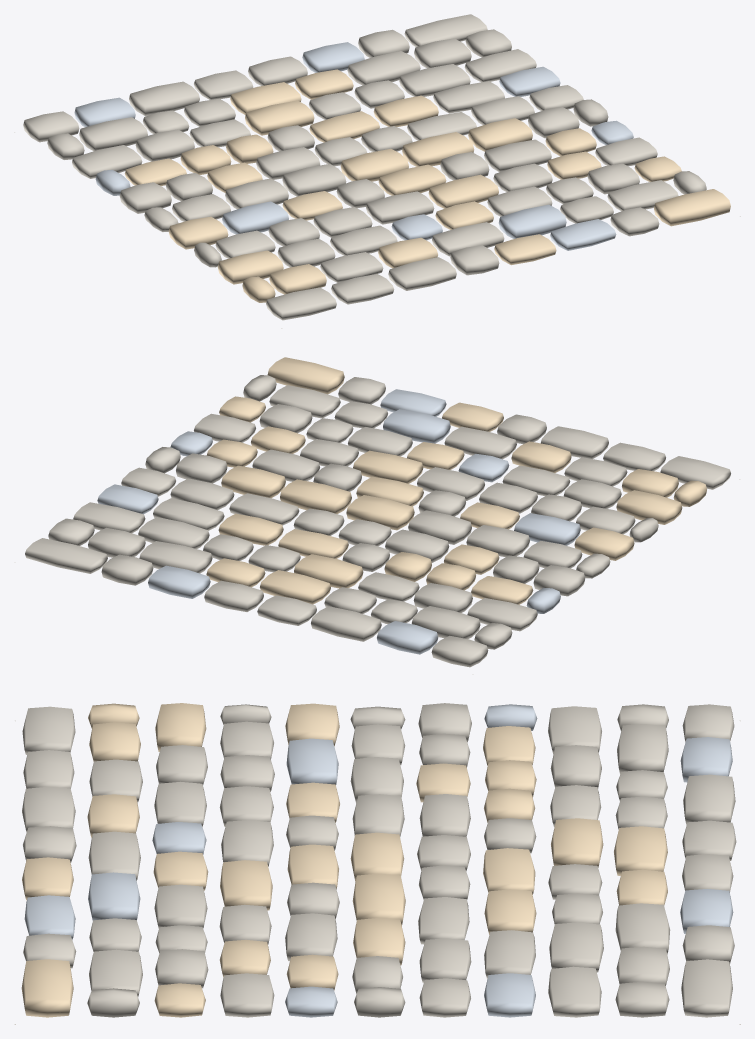
The model's file is ArrowAmbushCobbles.glb.
3 views of the same model, one above another, from view 1: azimuth 30°, elevation 25°; view 2: azimuth 150°, elevation 25°; view 3: azimuth 270°, elevation 25° (orthographic). The views are drawn at different scales.
Visible parts, largest first — view 1: Cobble, CobbleWarm, CobbleCool; view 2: Cobble, CobbleWarm, CobbleCool; view 3: Cobble, CobbleWarm, CobbleCool.
Boxes of the visible parts, left/top/right/bottom form: Cobble: left=14, top=14, right=740, bottom=328; CobbleWarm: left=124, top=69, right=730, bottom=302; CobbleCool: left=74, top=42, right=633, bottom=250; Cobble: left=14, top=375, right=740, bottom=674; CobbleWarm: left=206, top=357, right=706, bottom=604; CobbleCool: left=97, top=389, right=580, bottom=654; Cobble: left=14, top=703, right=740, bottom=1024; CobbleWarm: left=21, top=703, right=667, bottom=1017; CobbleCool: left=24, top=704, right=733, bottom=1017.
Bounding box in the file's own units: 10.63 × 0.4 × 10.73.
